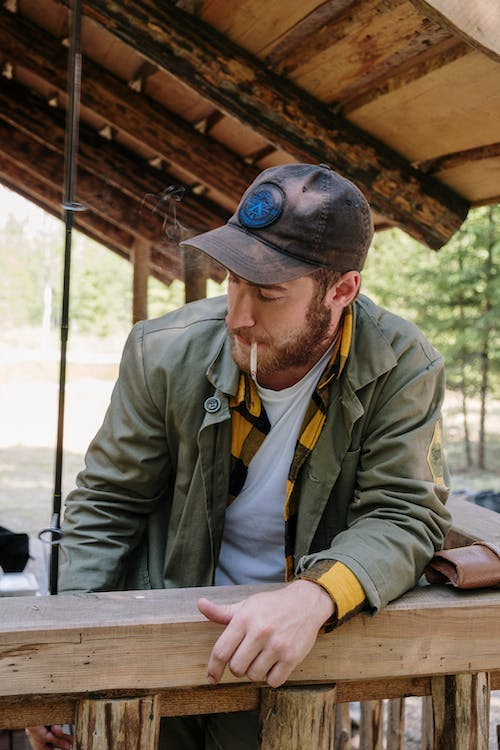cigarette: (248, 339, 261, 382)
